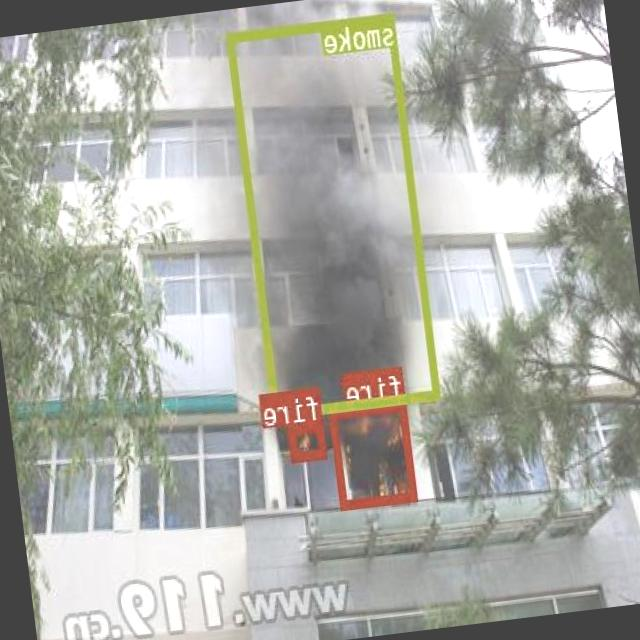fire: (329, 398, 419, 507), (288, 419, 328, 460)
smoke: (228, 12, 441, 417)
